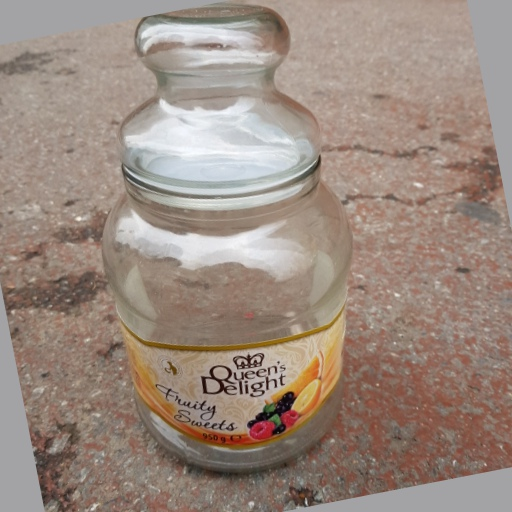Glass_5: (103, 4, 359, 471)
